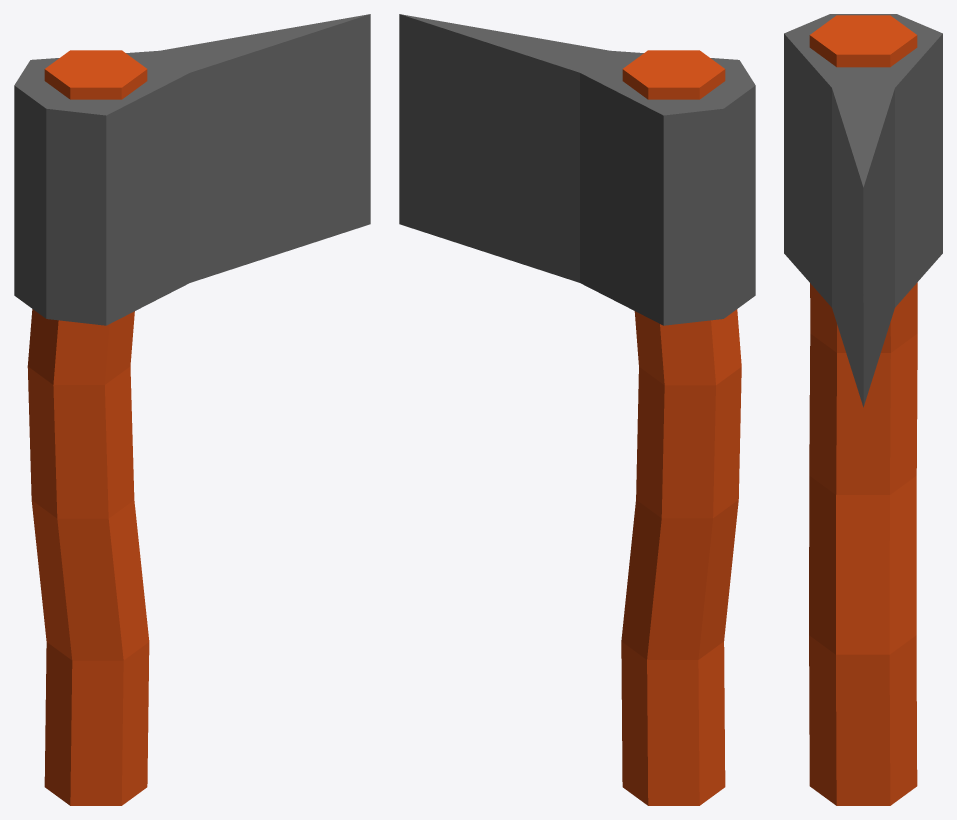
File: Axe.fbx
3 renders of one model, left to right at view 1: azimuth 30°, elevation 25°; view 2: azimuth 150°, elevation 25°; view 3: azimuth 270°, elevation 25°, orthographic. The views are drawn at different scales.
Parts seen in each view (by area): view 1: Cylinder; view 2: Cylinder; view 3: Cylinder.
Boxes of the visible parts, <box> form: Cylinder: <box>14,14,370,805</box>; Cylinder: <box>399,14,755,805</box>; Cylinder: <box>784,14,942,805</box>.
Size of the model in its own units: 212 by 426 by 81.77.
